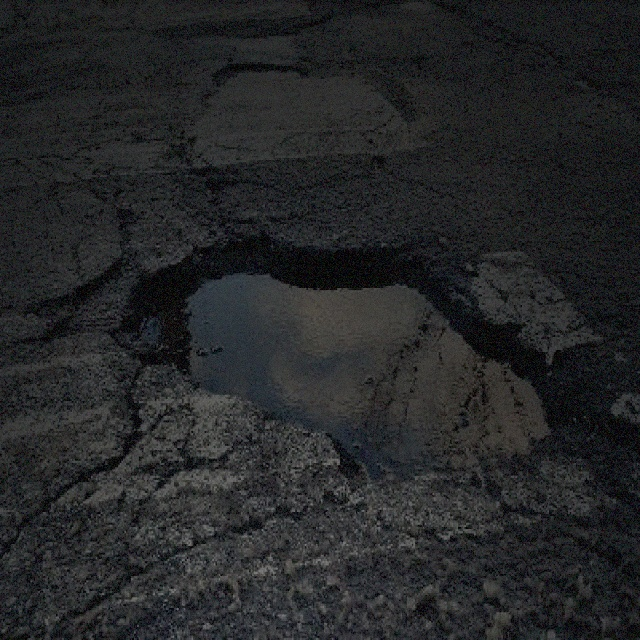pothole: (115, 228, 560, 486), (208, 54, 306, 84)
